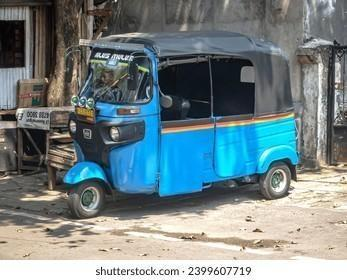keke: (52, 30, 302, 218)
